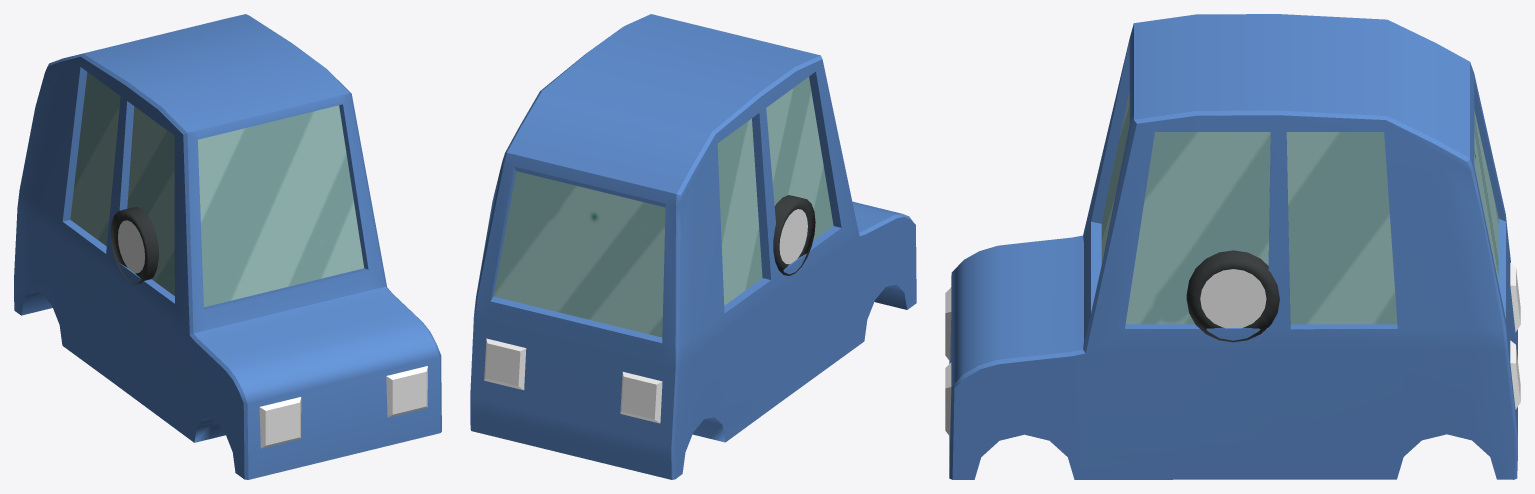
File: car_4_B.fbx
The picture shows the model from 3 angles, left to right: view 1: azimuth 30°, elevation 25°; view 2: azimuth 150°, elevation 25°; view 3: azimuth 270°, elevation 25°; orthographic projection. The views are drawn at different scales.
Parts seen in each view (by area): view 1: car_4_chasis_B, car_4_back_wheel_B, car_4_right_wheel_B; view 2: car_4_chasis_B, car_4_back_wheel_B; view 3: car_4_chasis_B, car_4_left_wheel_B.
Boxes of the visible parts, x1,y1,x2,y2 form: car_4_chasis_B: (14, 14, 441, 479); car_4_back_wheel_B: (110, 207, 157, 284); car_4_right_wheel_B: (126, 207, 158, 281); car_4_chasis_B: (470, 14, 916, 479); car_4_back_wheel_B: (773, 195, 815, 275); car_4_chasis_B: (945, 14, 1520, 479); car_4_left_wheel_B: (1186, 250, 1279, 342).
Size of the model in its own units: 81.53 by 117 by 169.
